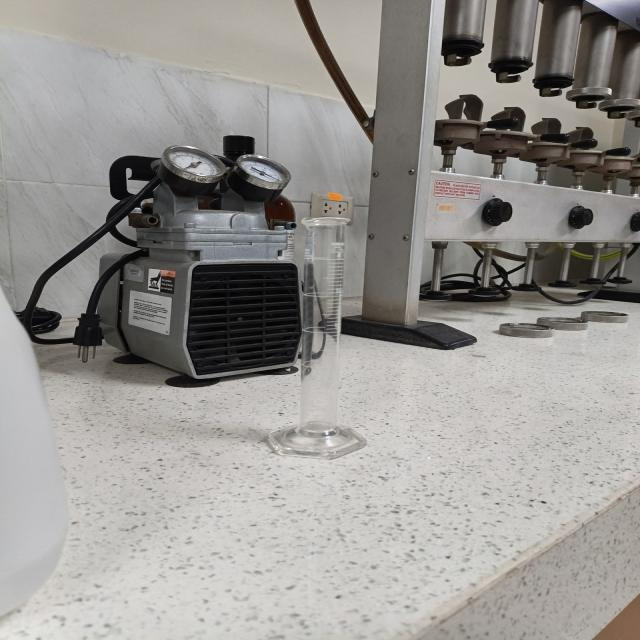Bomba de Vacio de Membrana - Diafragma Portatil: (18, 136, 301, 388)
